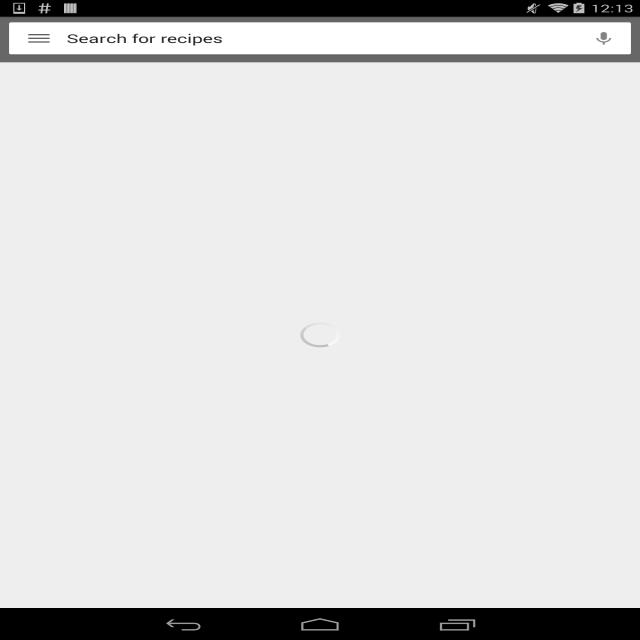ImageView: (590, 25, 617, 52), (26, 30, 52, 46)
ProgressBar: (294, 319, 346, 351)
TextView: (67, 25, 590, 52), (17, 29, 172, 47), (580, 22, 632, 54)
